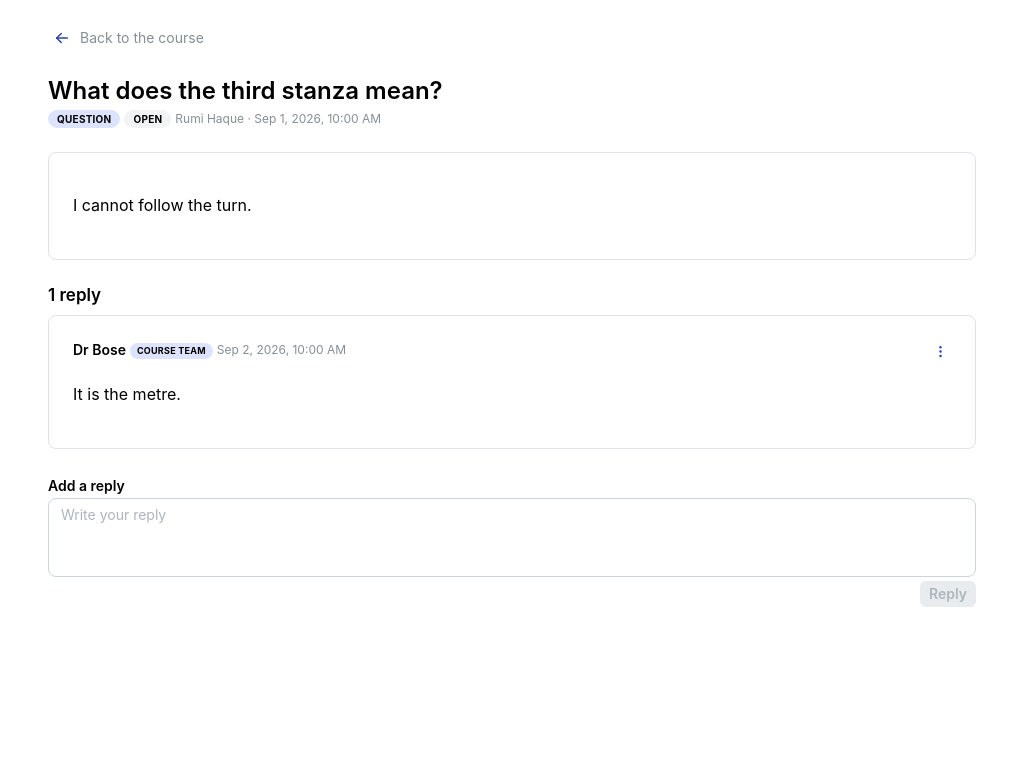
Test: DiscussionRoute › offers accepting only when the reader may accept
Expected: the heading "What does the third stanza mean?" is shown, [48,76,443,106]
Click the button named "Reply actions": [940, 351] box [929,340,951,362]
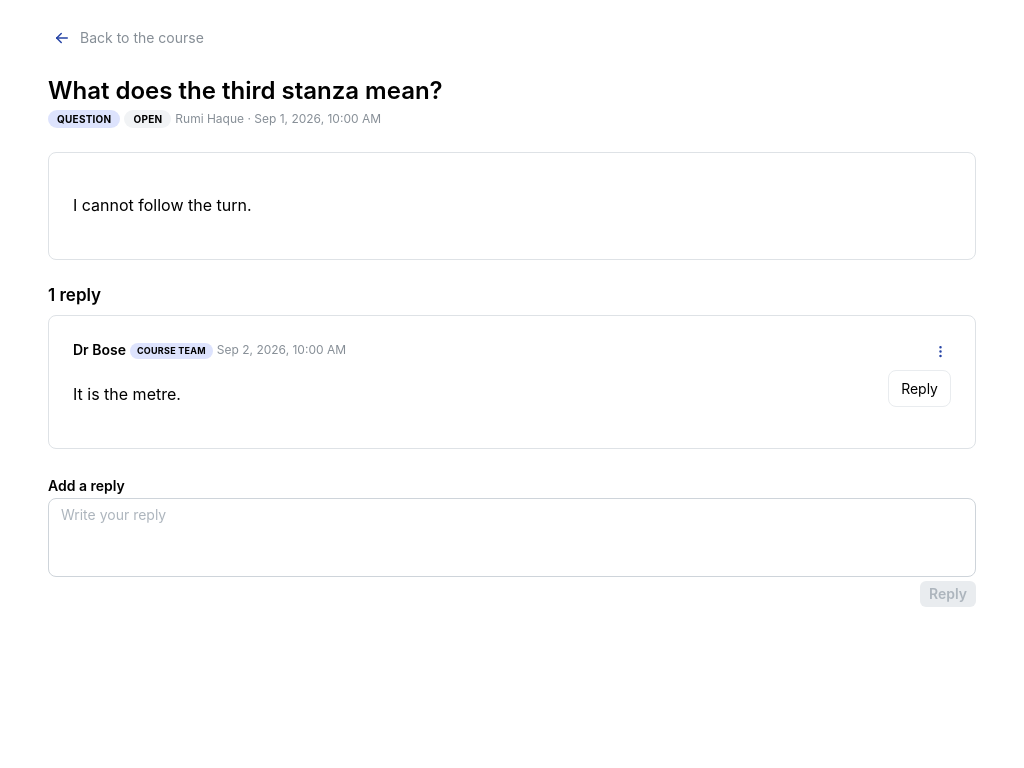
Expected: the menu item "Reply" is shown, [893,375,946,402]
